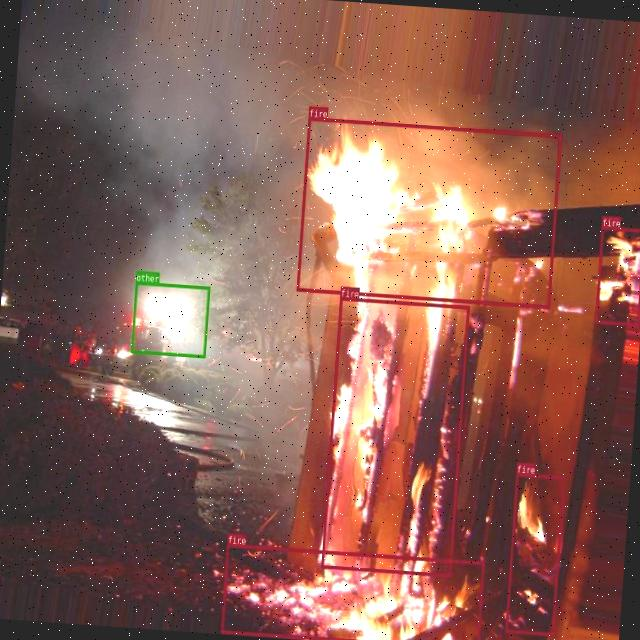fire: (296, 116, 562, 308), (320, 296, 469, 576), (220, 543, 484, 640), (504, 472, 564, 635), (594, 225, 640, 325)
